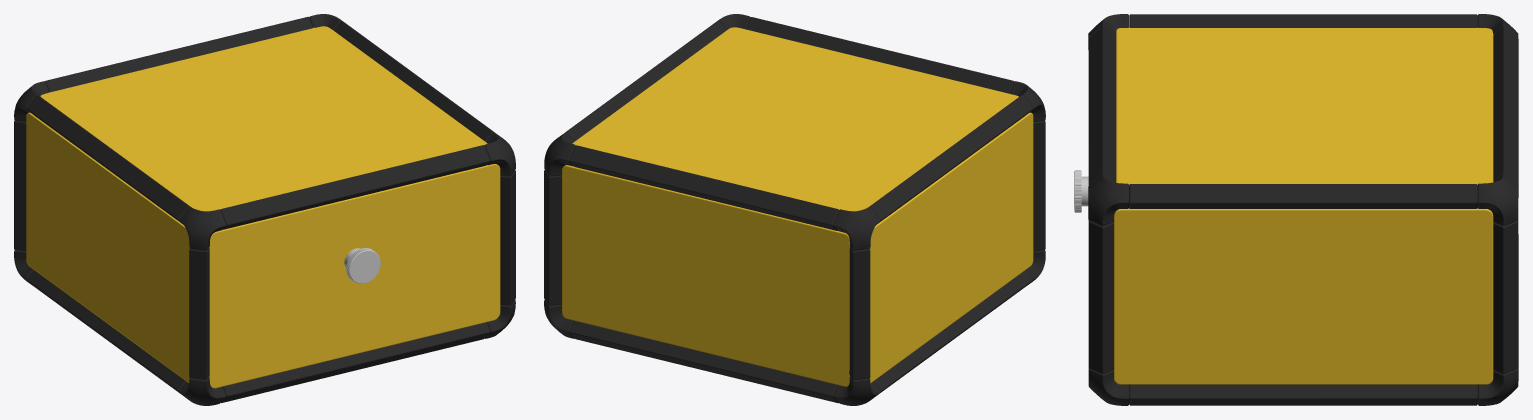
3 renders of one model, left to right at view 1: azimuth 30°, elevation 25°; view 2: azimuth 150°, elevation 25°; view 3: azimuth 270°, elevation 25°, orthographic. The views are drawn at different scales.
Parts seen in each view (by area): view 1: 329x329x154; view 2: 329x329x154; view 3: 329x329x154.
Part boxes in pixels (left/top/right/bottom): 329x329x154: left=14, top=14, right=515, bottom=405; 329x329x154: left=544, top=14, right=1045, bottom=405; 329x329x154: left=1074, top=14, right=1518, bottom=405.
Size of the model in its own units: 0.4067 by 0.2317 by 0.4196.
